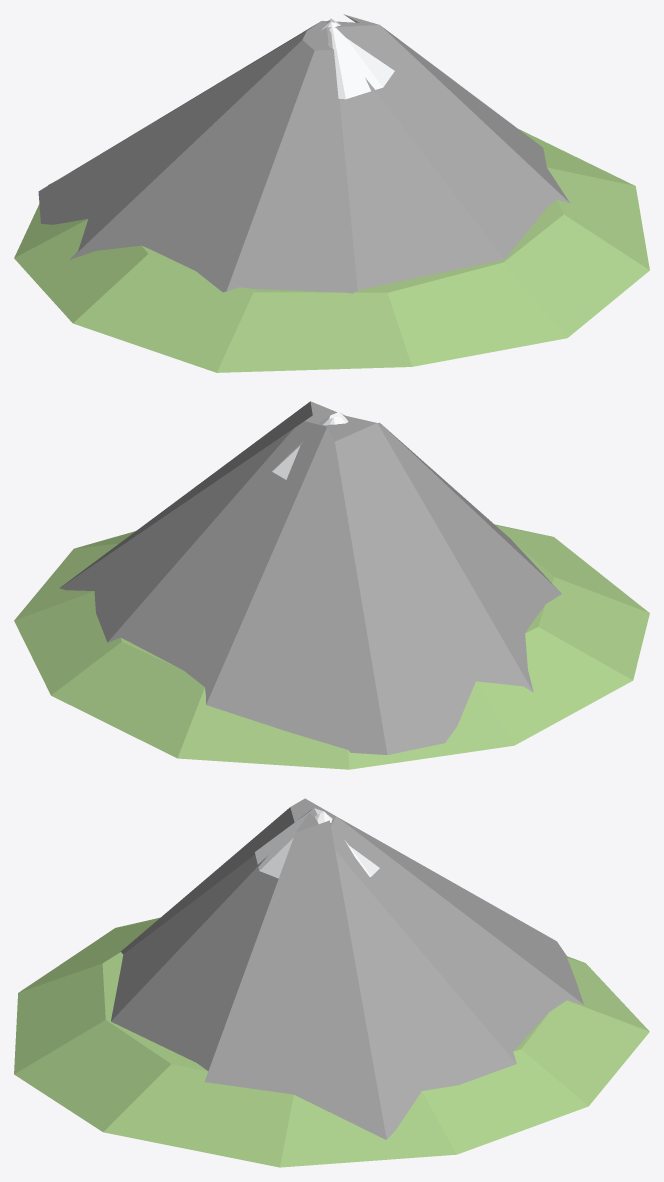
File: Mountain_A.fbx
The picture shows the model from 3 angles, top to bottom: view 1: azimuth 30°, elevation 25°; view 2: azimuth 150°, elevation 25°; view 3: azimuth 270°, elevation 25°; orthographic projection.
Parts seen in each view (by area): view 1: Mountain_A_Mesh; view 2: Mountain_A_Mesh; view 3: Mountain_A_Mesh.
Boxes of the visible parts, box(x1,y1,x2,y2) form: Mountain_A_Mesh: box(14, 14, 649, 372); Mountain_A_Mesh: box(14, 401, 649, 769); Mountain_A_Mesh: box(14, 798, 649, 1167).
Bounding box in the file's own units: 72.57 × 28.77 × 71.17.
